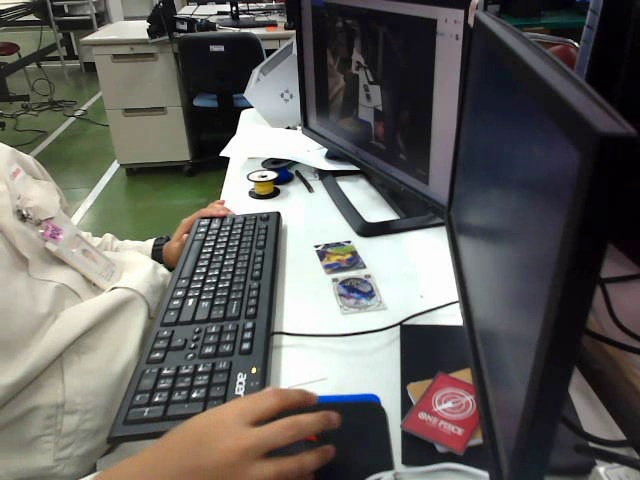can: (305, 235, 369, 271), (328, 272, 385, 312)
